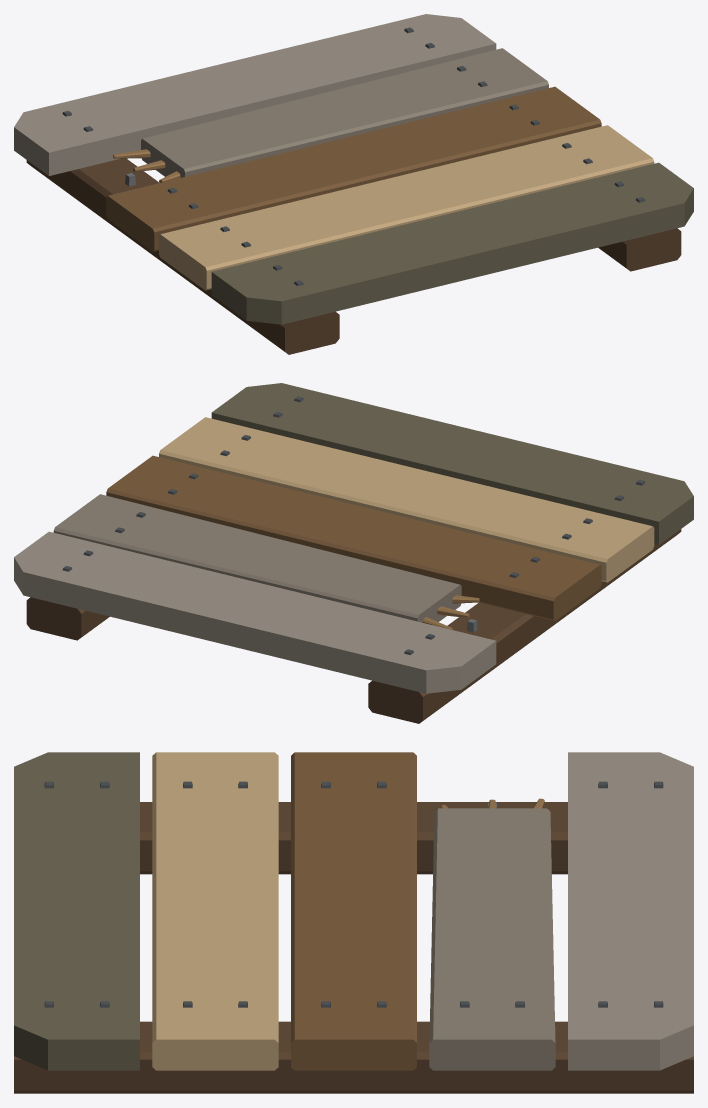
The model's file is SM_LPD_Furn_DunnagePallet_01.fbx.
The picture shows the model from 3 angles, top to bottom: view 1: azimuth 30°, elevation 25°; view 2: azimuth 150°, elevation 25°; view 3: azimuth 270°, elevation 25°; orthographic projection. The views are drawn at different scales.
Visible parts, largest first — view 1: SM_LPD_Furn_DunnagePallet_01; view 2: SM_LPD_Furn_DunnagePallet_01; view 3: SM_LPD_Furn_DunnagePallet_01.
Part boxes in pixels (x1,y1,x2,y2): SM_LPD_Furn_DunnagePallet_01: (14, 14, 693, 354); SM_LPD_Furn_DunnagePallet_01: (14, 383, 693, 723); SM_LPD_Furn_DunnagePallet_01: (14, 752, 693, 1093).
Bounding box in the file's own units: 1.1 × 0.135 × 1.1.
